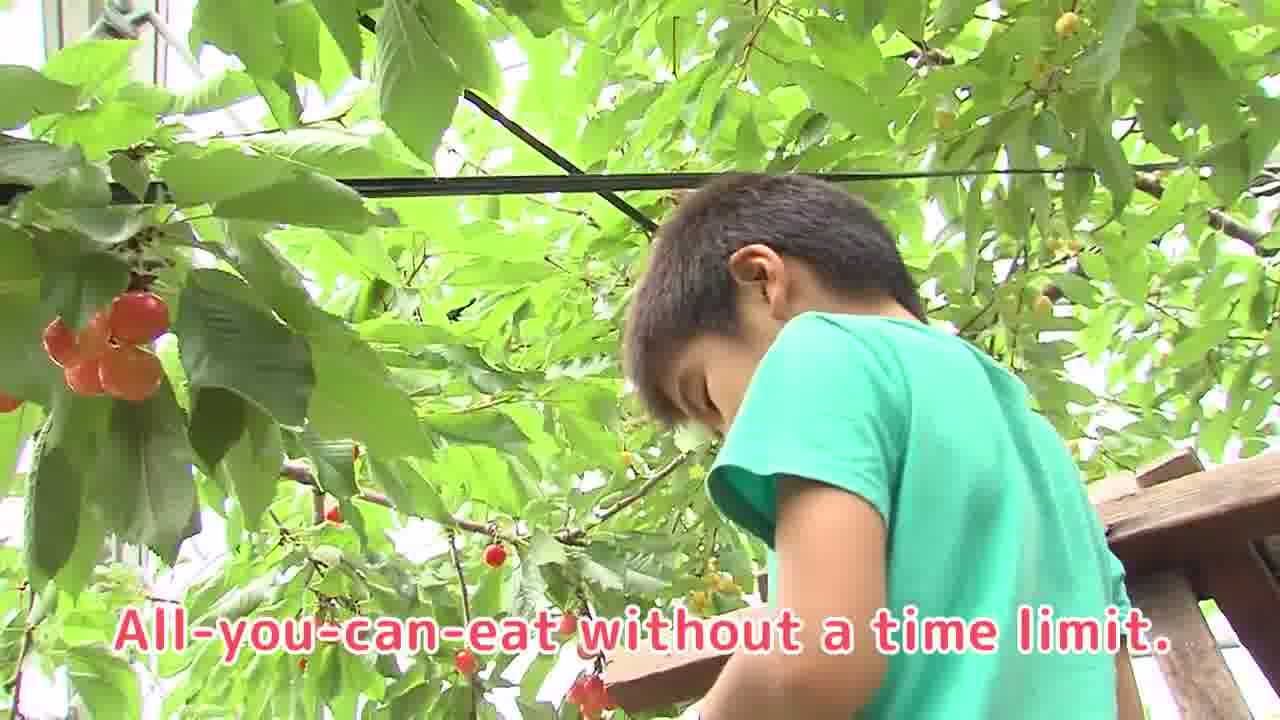Cherry: (481, 528, 514, 577)
